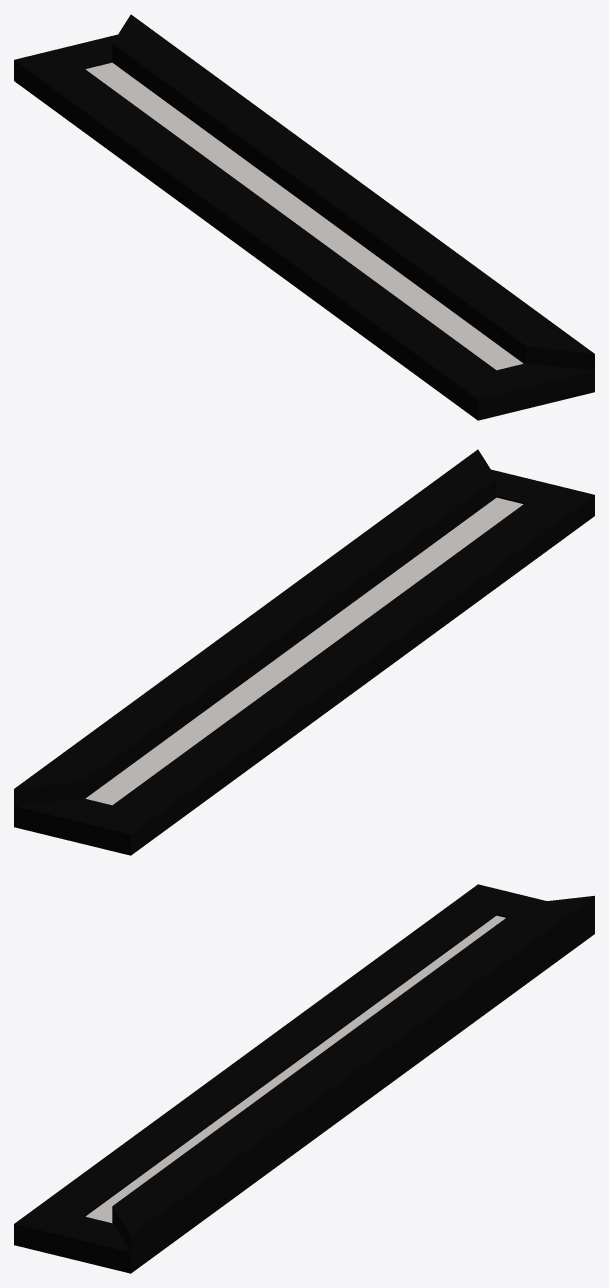
File: recessed_64.obj
3 renders of one model, top to bottom at view 1: azimuth 30°, elevation 25°; view 2: azimuth 150°, elevation 25°; view 3: azimuth 330°, elevation 25°, orthographic.
Parts seen in each view (by area): view 1: Plane.007; view 2: Plane.007; view 3: Plane.007.
Part boxes in pixels (bbox=[...]): Plane.007: bbox=[14, 14, 594, 420]; Plane.007: bbox=[14, 449, 594, 855]; Plane.007: bbox=[14, 884, 594, 1273].
Bounding box in the file's own units: 0.16 × 0.05 × 1.1.
